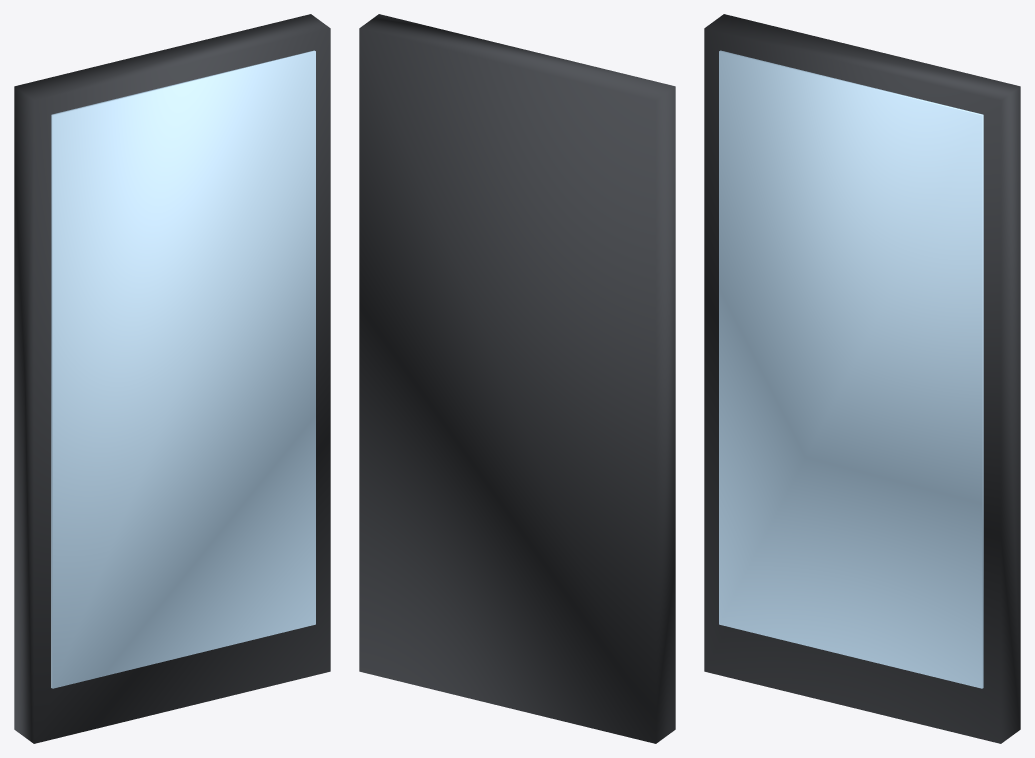
The model's file is elliot_phone.glb.
3 views of the same model, side by side, from view 1: azimuth 30°, elevation 25°; view 2: azimuth 150°, elevation 25°; view 3: azimuth 330°, elevation 25° (orthographic).
Visible parts, largest first — view 1: Phone; view 2: Phone; view 3: Phone.
Part boxes in pixels (x1,y1,x2,y2): Phone: (14,14,330,743); Phone: (359,14,675,743); Phone: (704,14,1020,743).
Size of the model in its own units: 0.071 by 0.147 by 0.009.
